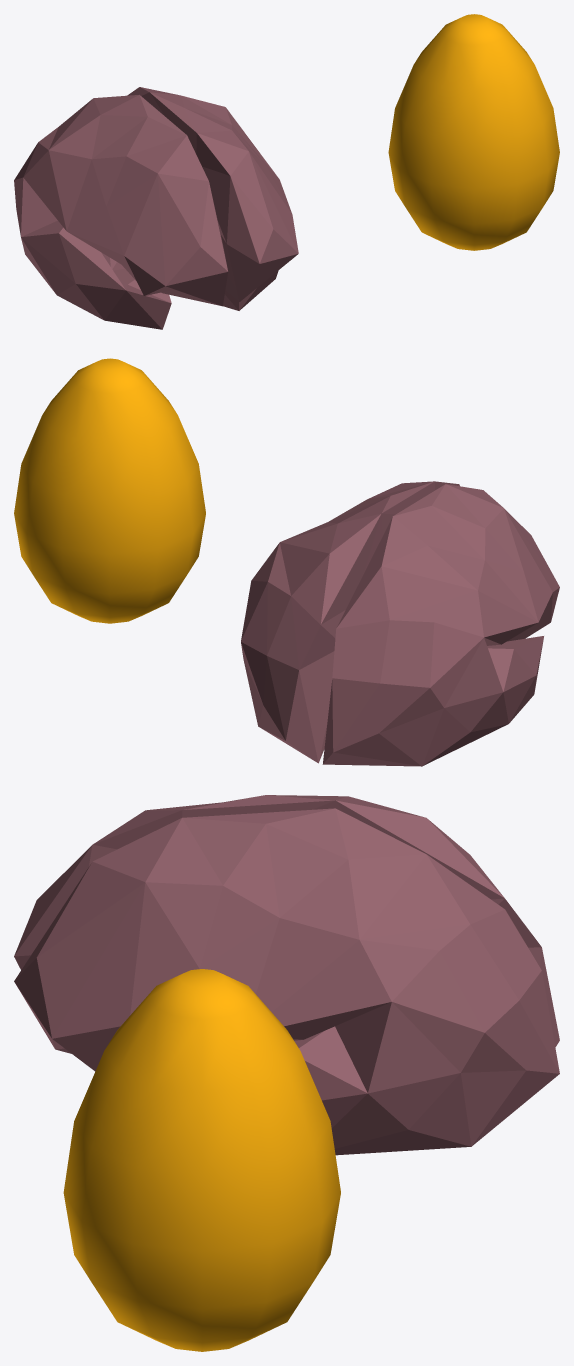
File: Brain_Yaico_gold.fbx
3 views of the same model, one above another, from view 1: azimuth 30°, elevation 25°; view 2: azimuth 150°, elevation 25°; view 3: azimuth 270°, elevation 25° (orthographic). The views are drawn at different scales.
Visible parts, largest first — view 1: SM_DL_Brain, SM_DL_Yaico_gold; view 2: SM_DL_Brain, SM_DL_Yaico_gold; view 3: SM_DL_Brain, SM_DL_Yaico_gold.
Part boxes in pixels (x1,y1,x2,y2): SM_DL_Brain: (14, 87, 298, 329); SM_DL_Yaico_gold: (388, 14, 559, 250); SM_DL_Brain: (241, 481, 559, 766); SM_DL_Yaico_gold: (14, 358, 205, 623); SM_DL_Brain: (14, 795, 559, 1155); SM_DL_Yaico_gold: (63, 969, 340, 1351).
Size of the model in its own units: 0.98 by 0.438 by 0.601.
